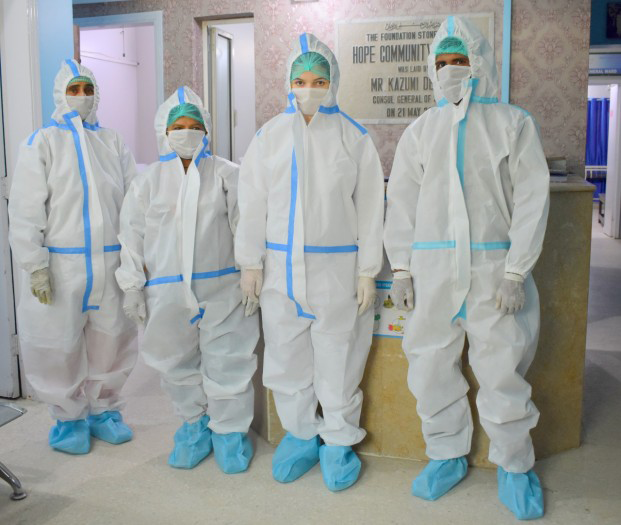Coverall: (384, 25, 555, 473), (236, 35, 380, 442), (119, 89, 257, 431), (8, 58, 137, 414)
Gloves: (495, 270, 529, 317), (388, 262, 415, 312), (241, 270, 267, 321), (119, 286, 148, 329), (356, 277, 381, 317), (29, 267, 54, 304)
with_mask: (435, 55, 476, 107), (291, 75, 331, 121), (168, 122, 207, 157), (66, 88, 96, 121)
